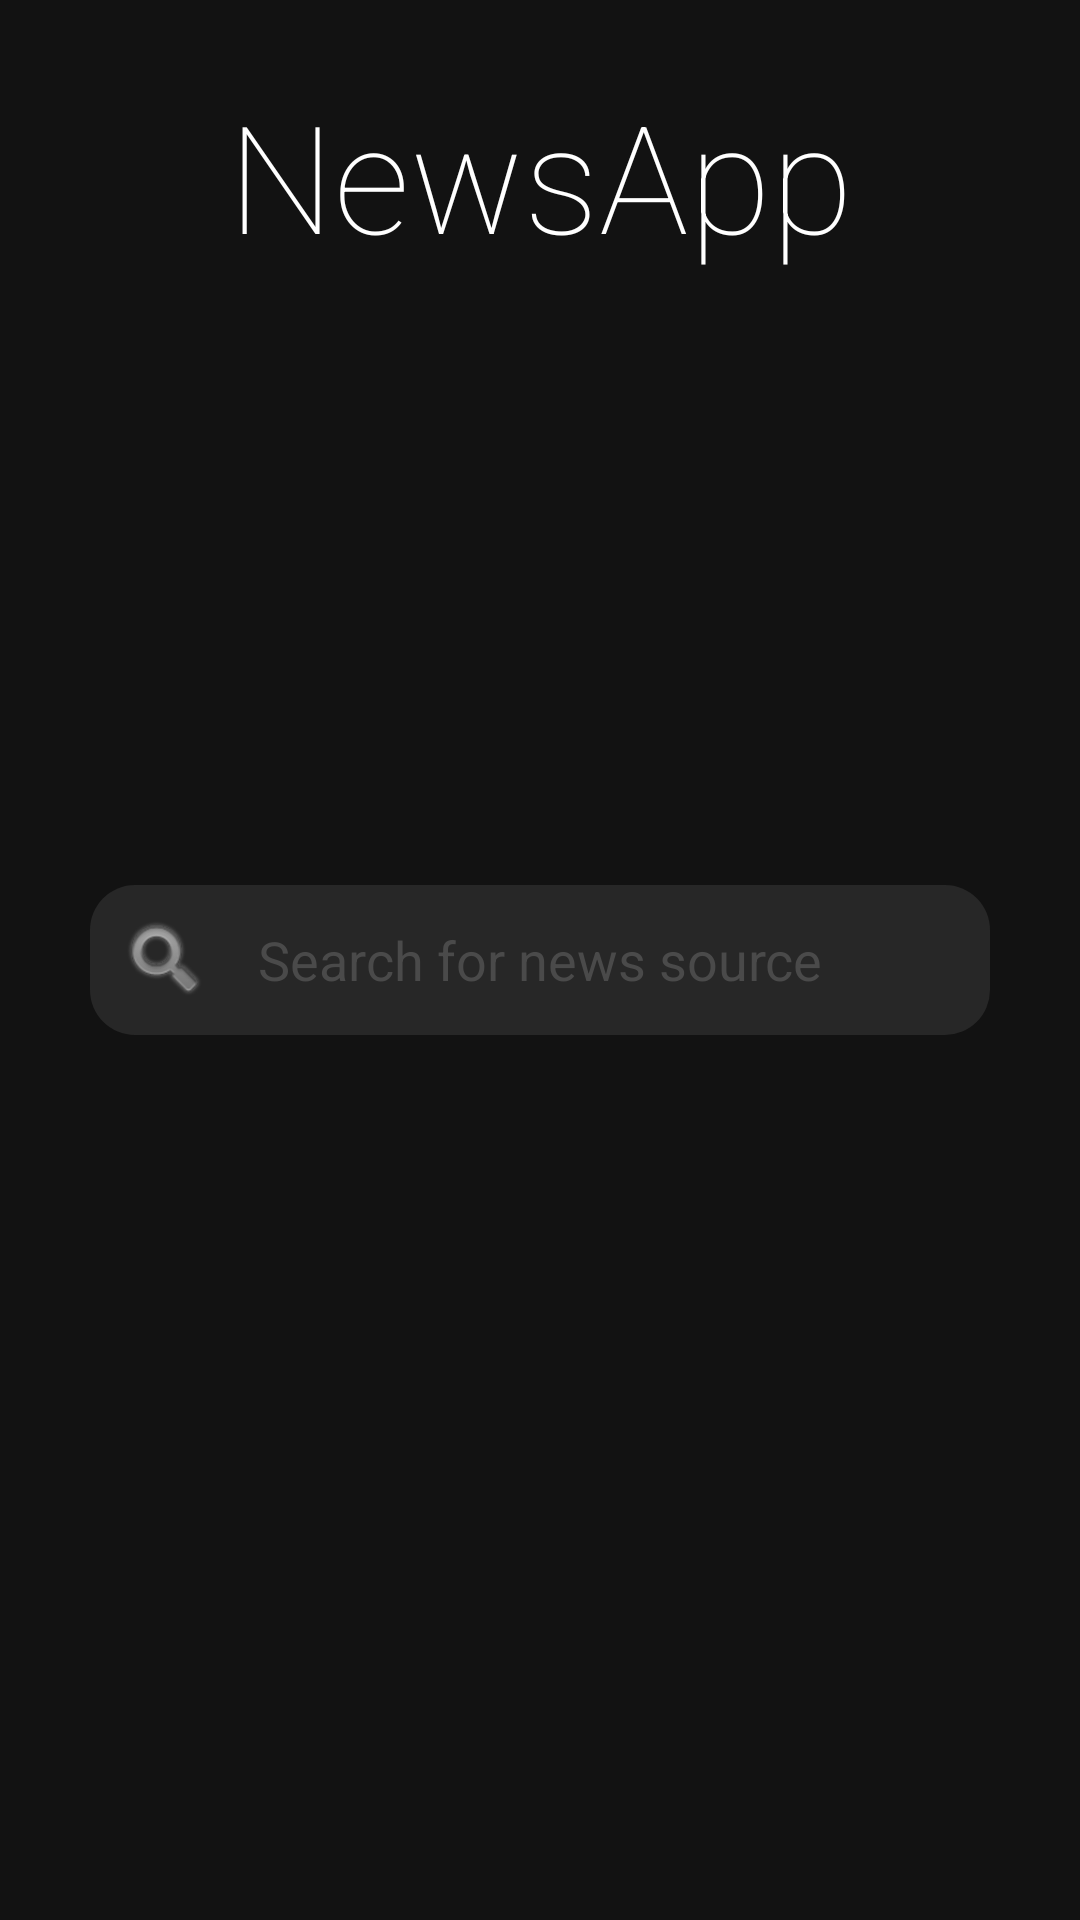

Point at icon controls on the screen. Image size 1080*1920, points as (x=x, y=y).
search category: (x=164, y=958)
